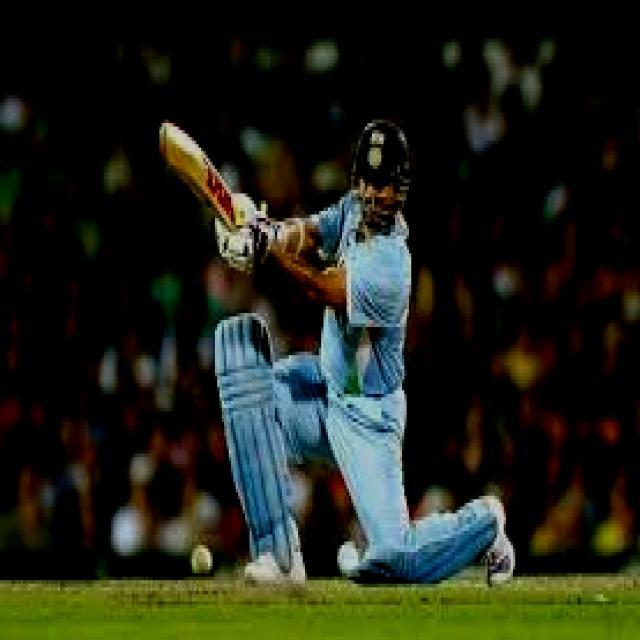bat: (151, 118, 240, 233)
toe: (154, 119, 174, 162)
